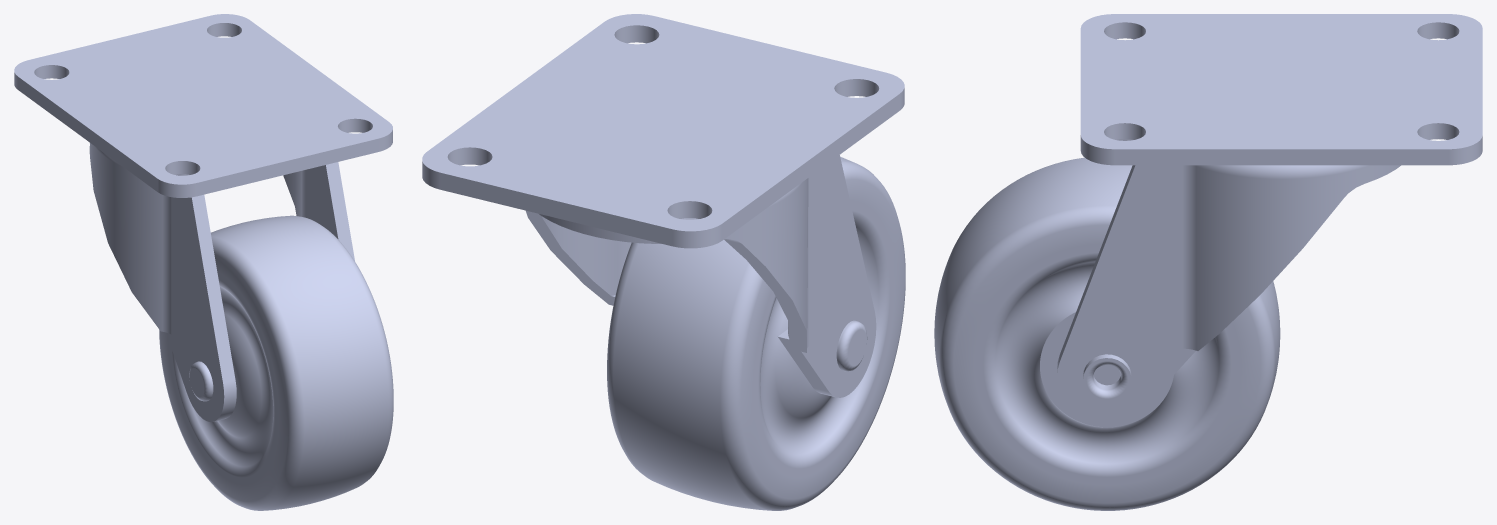
File: caster_wheel.obj
3 views of the same model, side by side, from view 1: azimuth 30°, elevation 25°; view 2: azimuth 150°, elevation 25°; view 3: azimuth 270°, elevation 25° (orthographic). The views are drawn at different scales.
Parts seen in each view (by area): view 1: mesh 1 caste; view 2: mesh 1 caste; view 3: mesh 1 caste.
Part boxes in pixels (x1,y1,x2,y2): mesh 1 caste: (14,14,393,510); mesh 1 caste: (422,14,905,510); mesh 1 caste: (934,14,1482,510).
Size of the model in its own units: 0.047 by 0.0662 by 0.0805.
